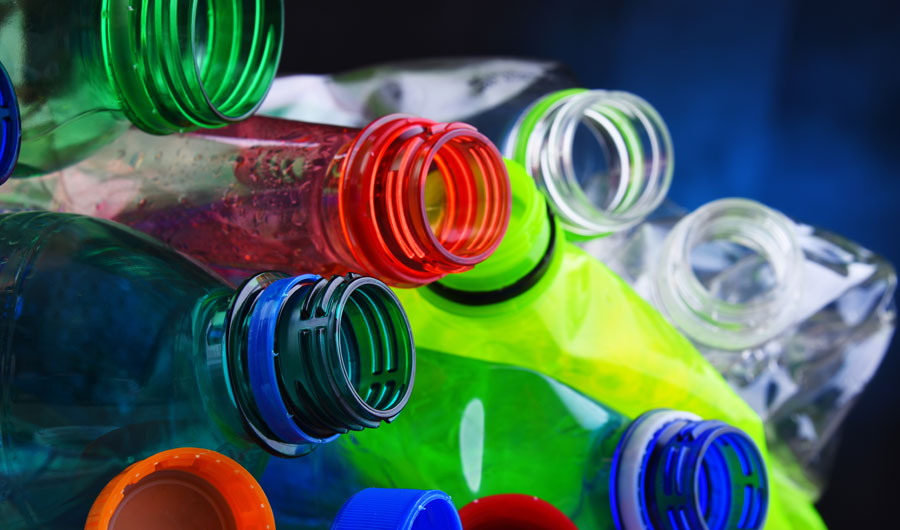plastic_bottle: (327, 102, 864, 530), (11, 103, 570, 361), (582, 59, 900, 492), (4, 204, 481, 491), (266, 277, 784, 530), (1, 2, 360, 253), (420, 32, 677, 280)
